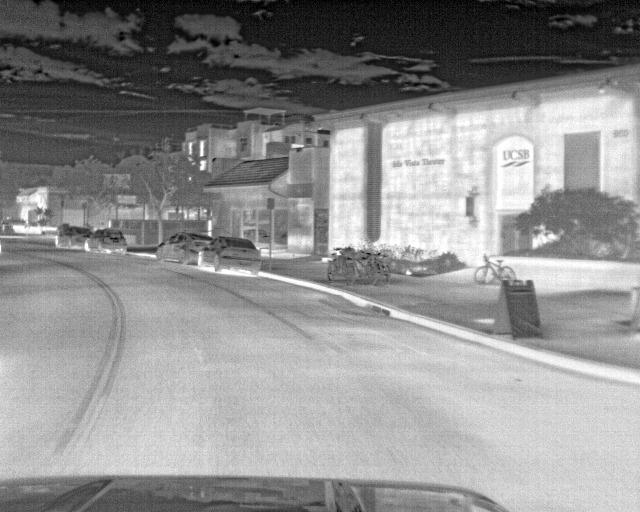bicycle: (470, 255, 519, 284), (324, 249, 355, 287), (377, 253, 391, 284)
car: (193, 233, 262, 276), (156, 232, 210, 267), (82, 227, 128, 253), (52, 225, 94, 251)
